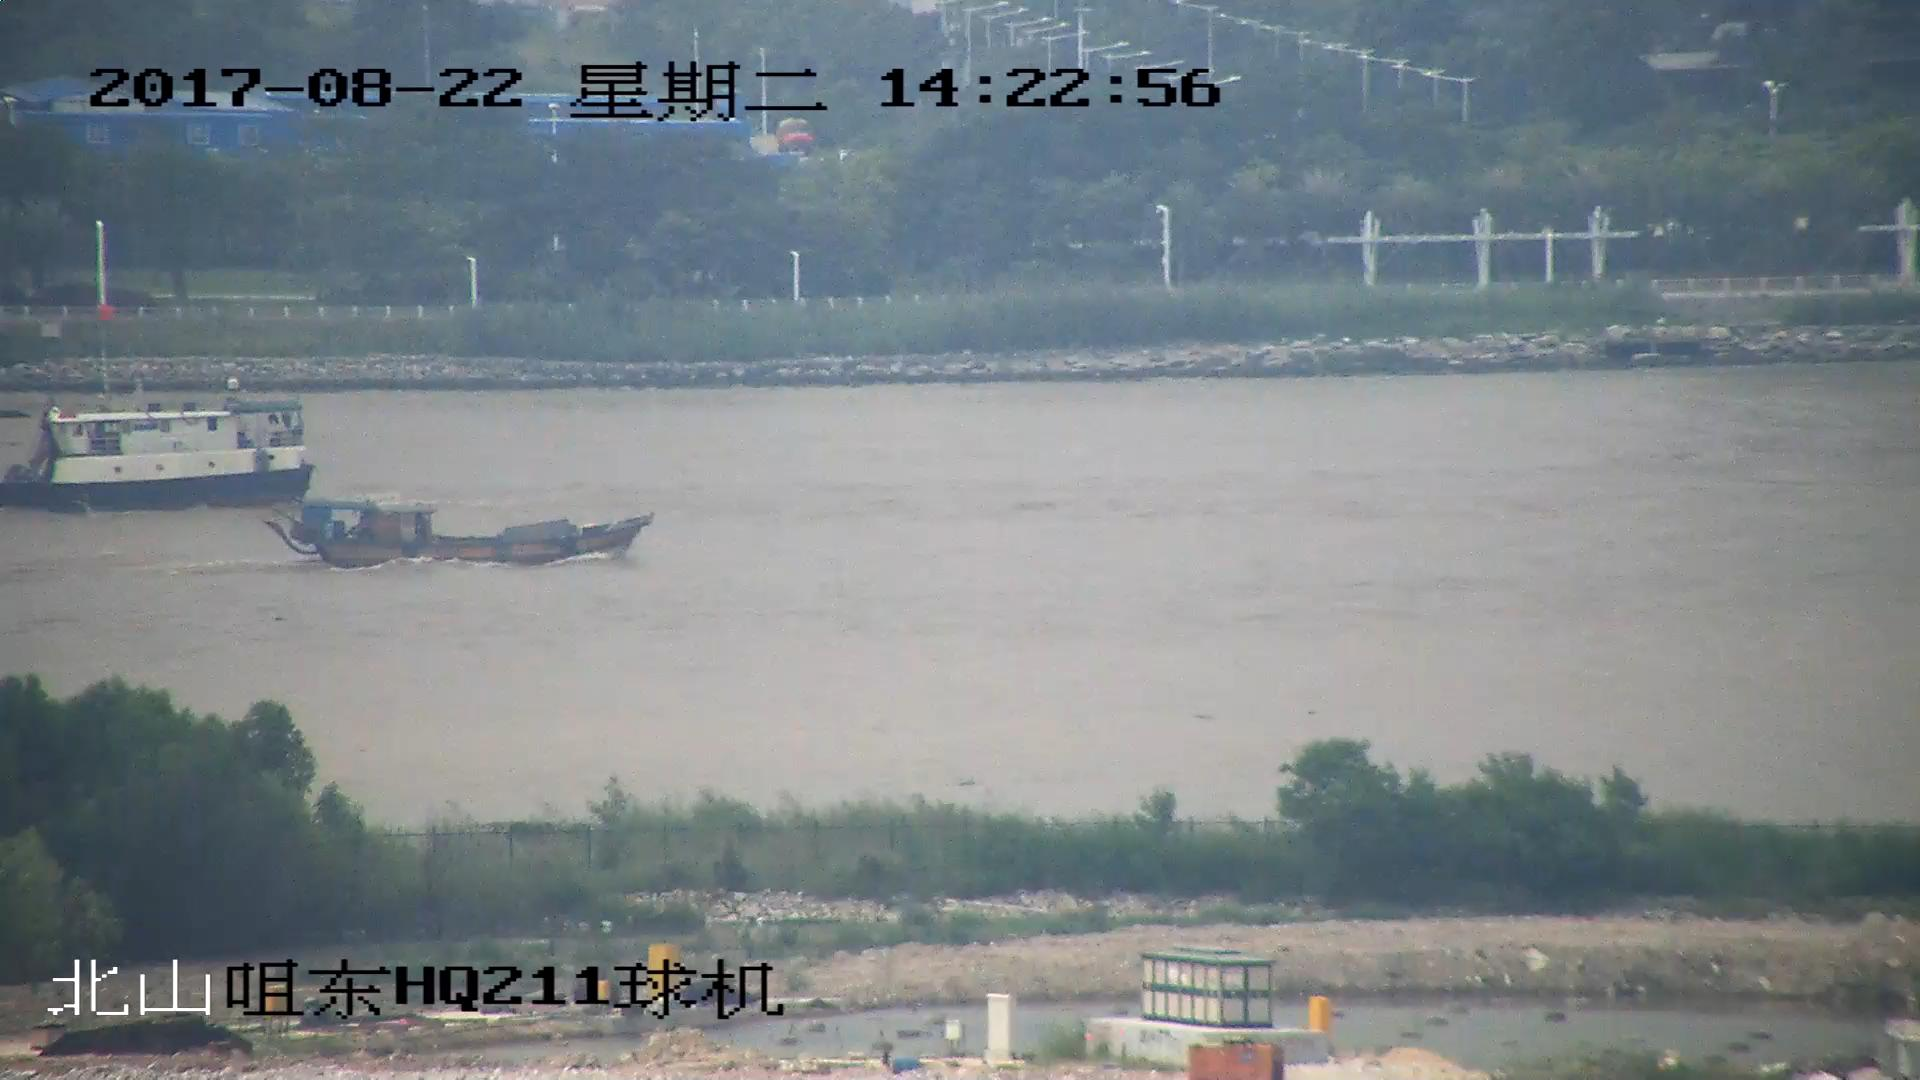fishing boat: (1, 309, 319, 510), (272, 501, 651, 571)
